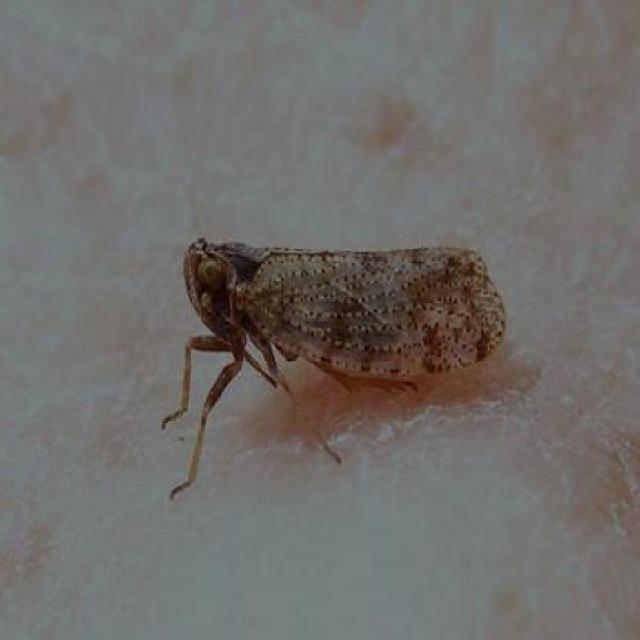brown-planthopper: (179, 226, 506, 446)
